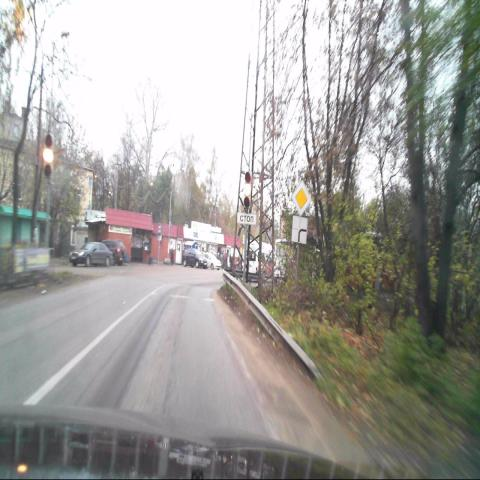6_16: (237, 212, 256, 224)
